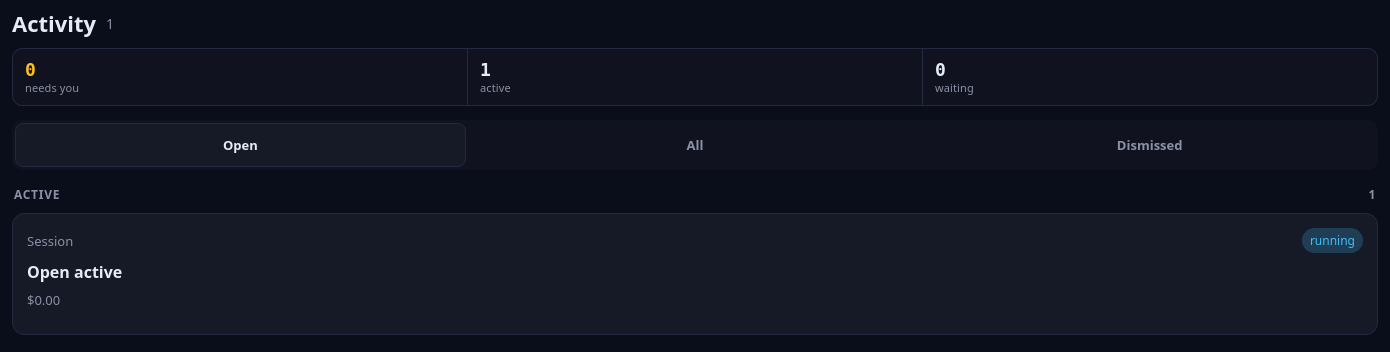
it: ActivityScreen › clears the summary filter when visibility changes
The width and height of the screenshot is (1390, 352).
Click the button with aria-label "active: 1. filter activity". click: point(495, 88)
box: [468, 49, 922, 105]
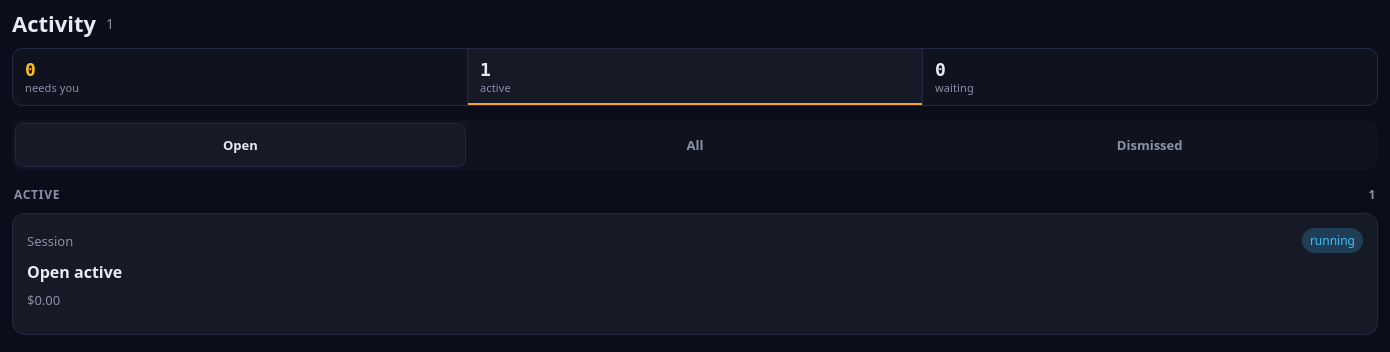
Click the tab "Dismissed". click: point(1150, 145)
box: [924, 123, 1375, 167]
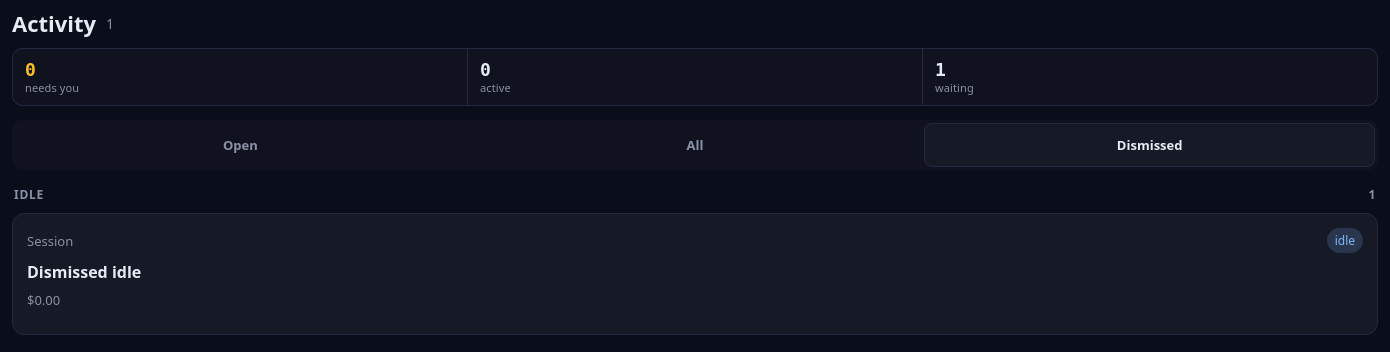
Check: the text "Dismissed idle" is shown, box [27, 261, 141, 283]
